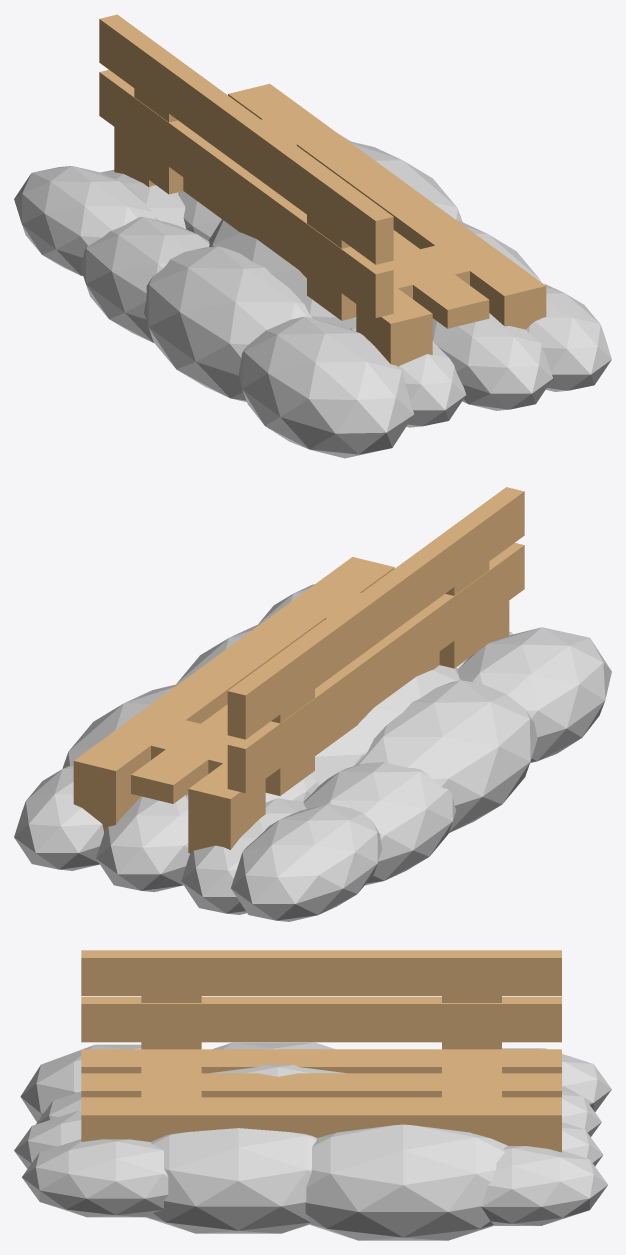
The model's file is Banco.fbx.
3 views of the same model, one above another, from view 1: azimuth 30°, elevation 25°; view 2: azimuth 150°, elevation 25°; view 3: azimuth 270°, elevation 25° (orthographic). The views are drawn at different scales.
Parts seen in each view (by area): view 1: Icosphere, Cube; view 2: Icosphere, Cube; view 3: Cube, Icosphere.
Boxes of the visible parts, bbox=[...] form: Icosphere: bbox=[14, 134, 611, 458]; Cube: bbox=[99, 14, 546, 366]; Icosphere: bbox=[14, 584, 611, 921]; Cube: bbox=[73, 487, 524, 853]; Cube: bbox=[81, 950, 561, 1152]; Icosphere: bbox=[14, 1042, 611, 1240].
Bounding box in the file's own units: 114 × 77.96 × 199.
